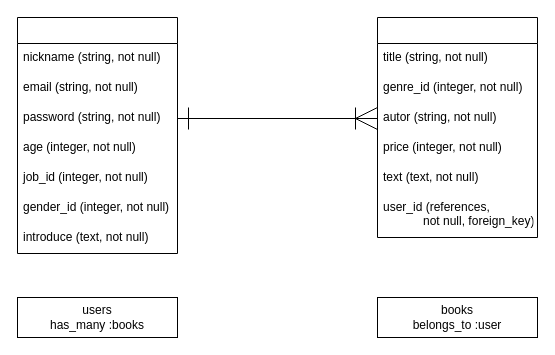
Some shapes in this 555 by 355 pixel diagram are drawn without their labels. The shapes that lost their labels are listed below. From the top down, each one's box as (x1, y1, x2, y2) in pixels, then its label:
(16, 16, 178, 254): users
(376, 16, 538, 238): books
